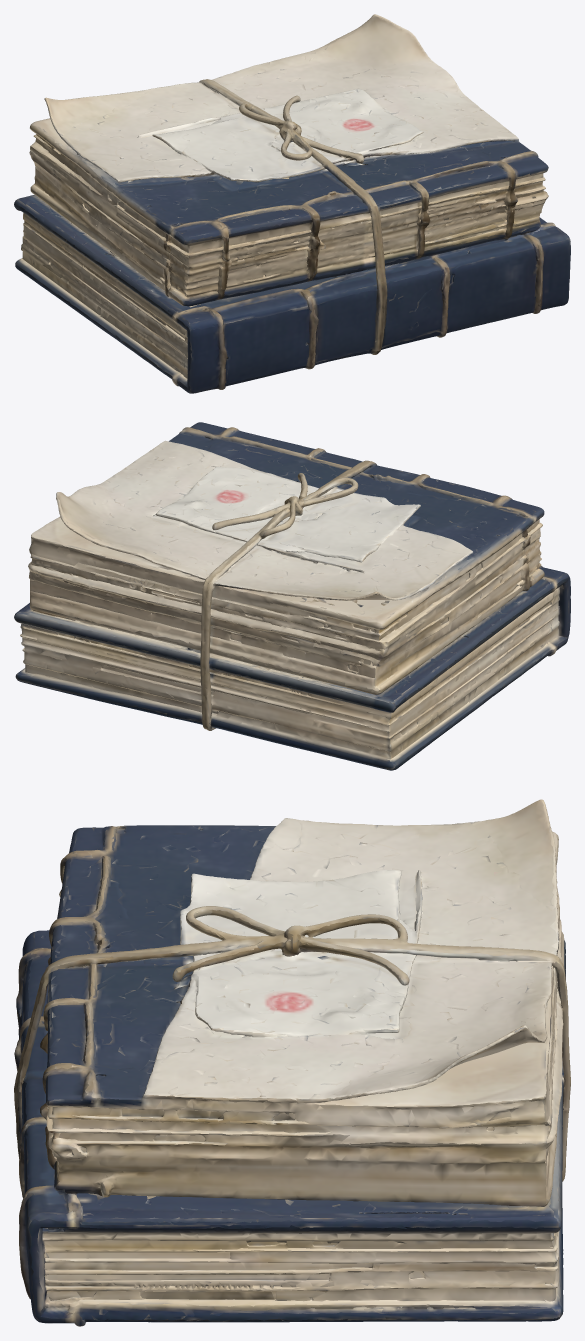
Rendered from S1-09_ledger_volume_A.glb.
3 views of the same model, one above another, from view 1: azimuth 30°, elevation 25°; view 2: azimuth 150°, elevation 25°; view 3: azimuth 270°, elevation 25° (orthographic). The views are drawn at different scales.
Visible parts, largest first — view 1: geometry_0; view 2: geometry_0; view 3: geometry_0.
Boxes of the visible parts, bbox=[...] form: geometry_0: bbox=[14, 14, 570, 393]; geometry_0: bbox=[14, 422, 570, 770]; geometry_0: bbox=[14, 799, 570, 1326].
Bounding box in the file's own units: 0.42 × 0.1941 × 0.3485.
1 material, 1 textured.
